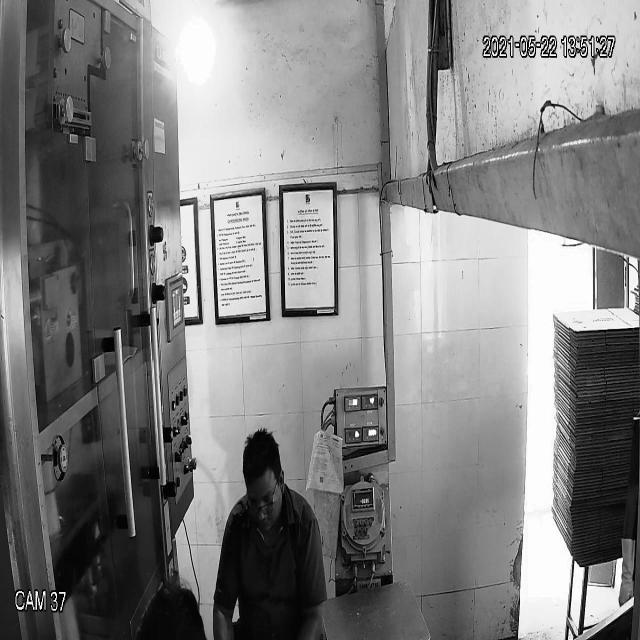glasses: (241, 485, 281, 523)
